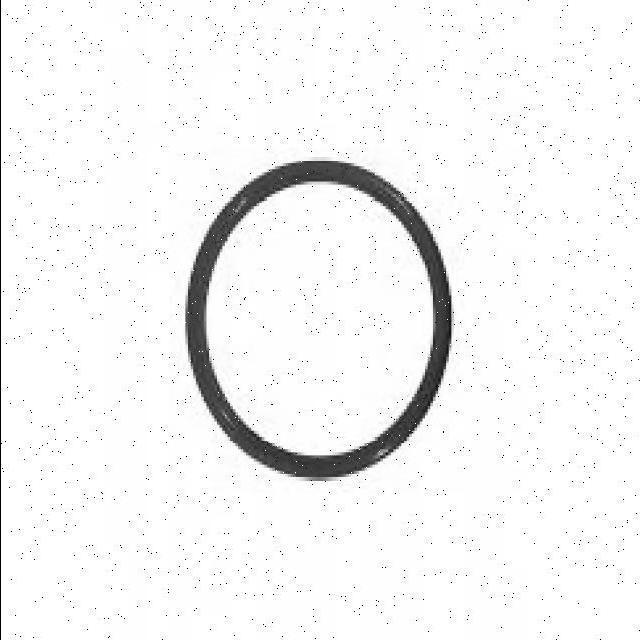Circle: (188, 156, 454, 484)
